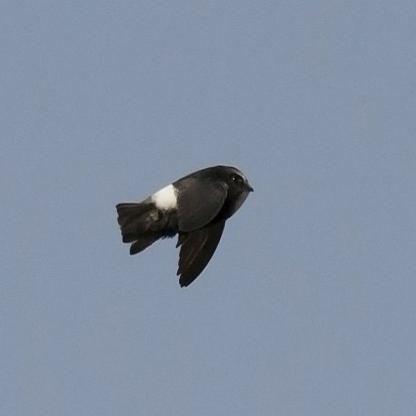Burung: (115, 164, 252, 286)
